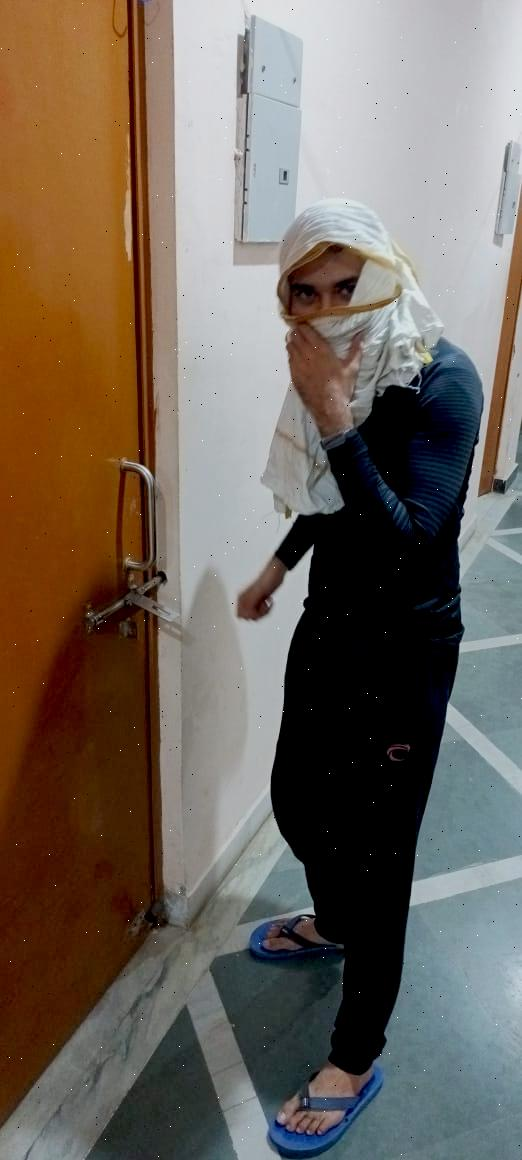suspicion: (140, 180, 507, 1160)
